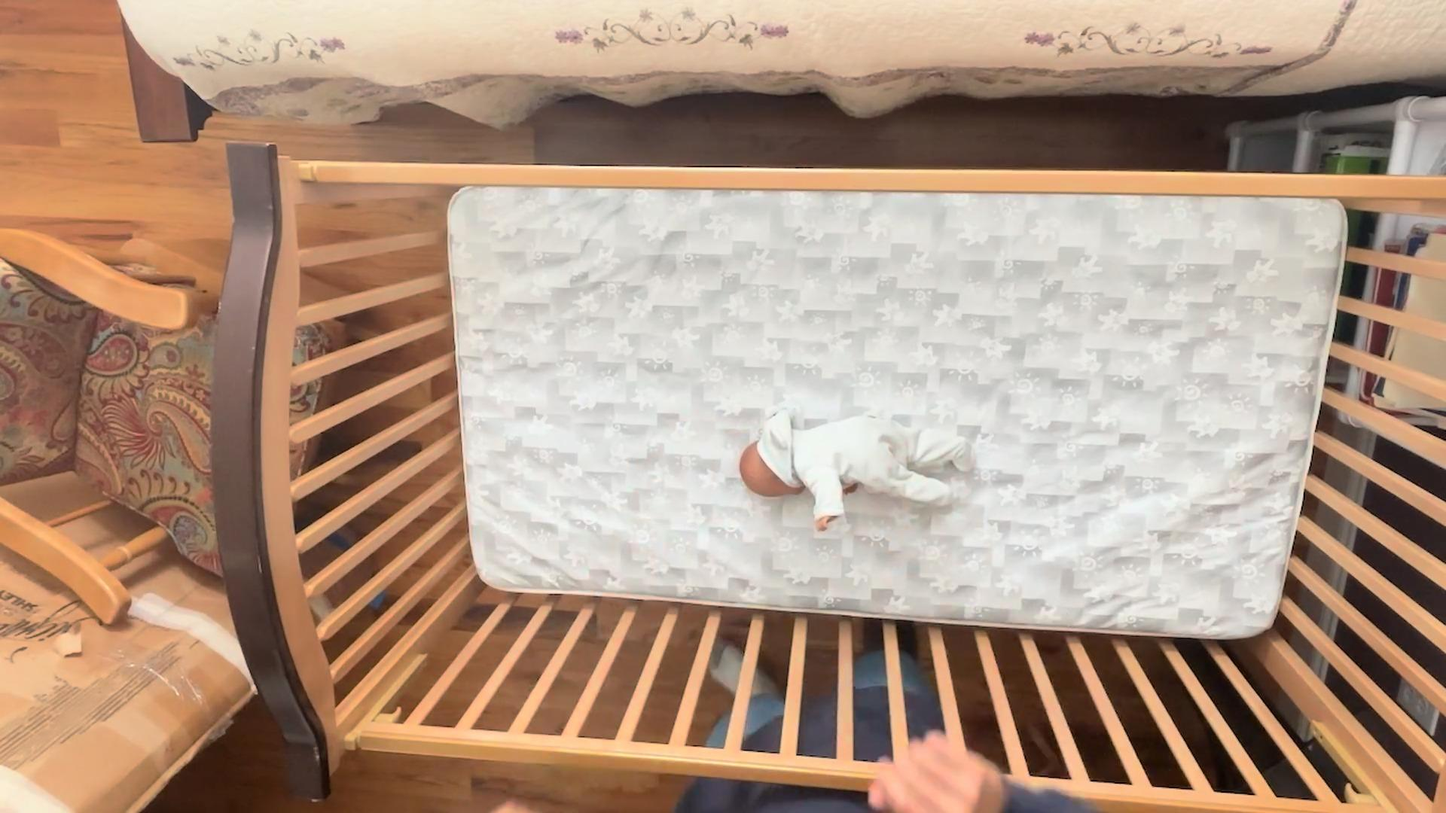baby: (735, 405, 979, 536)
